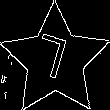L_S: (34, 32, 76, 89)
